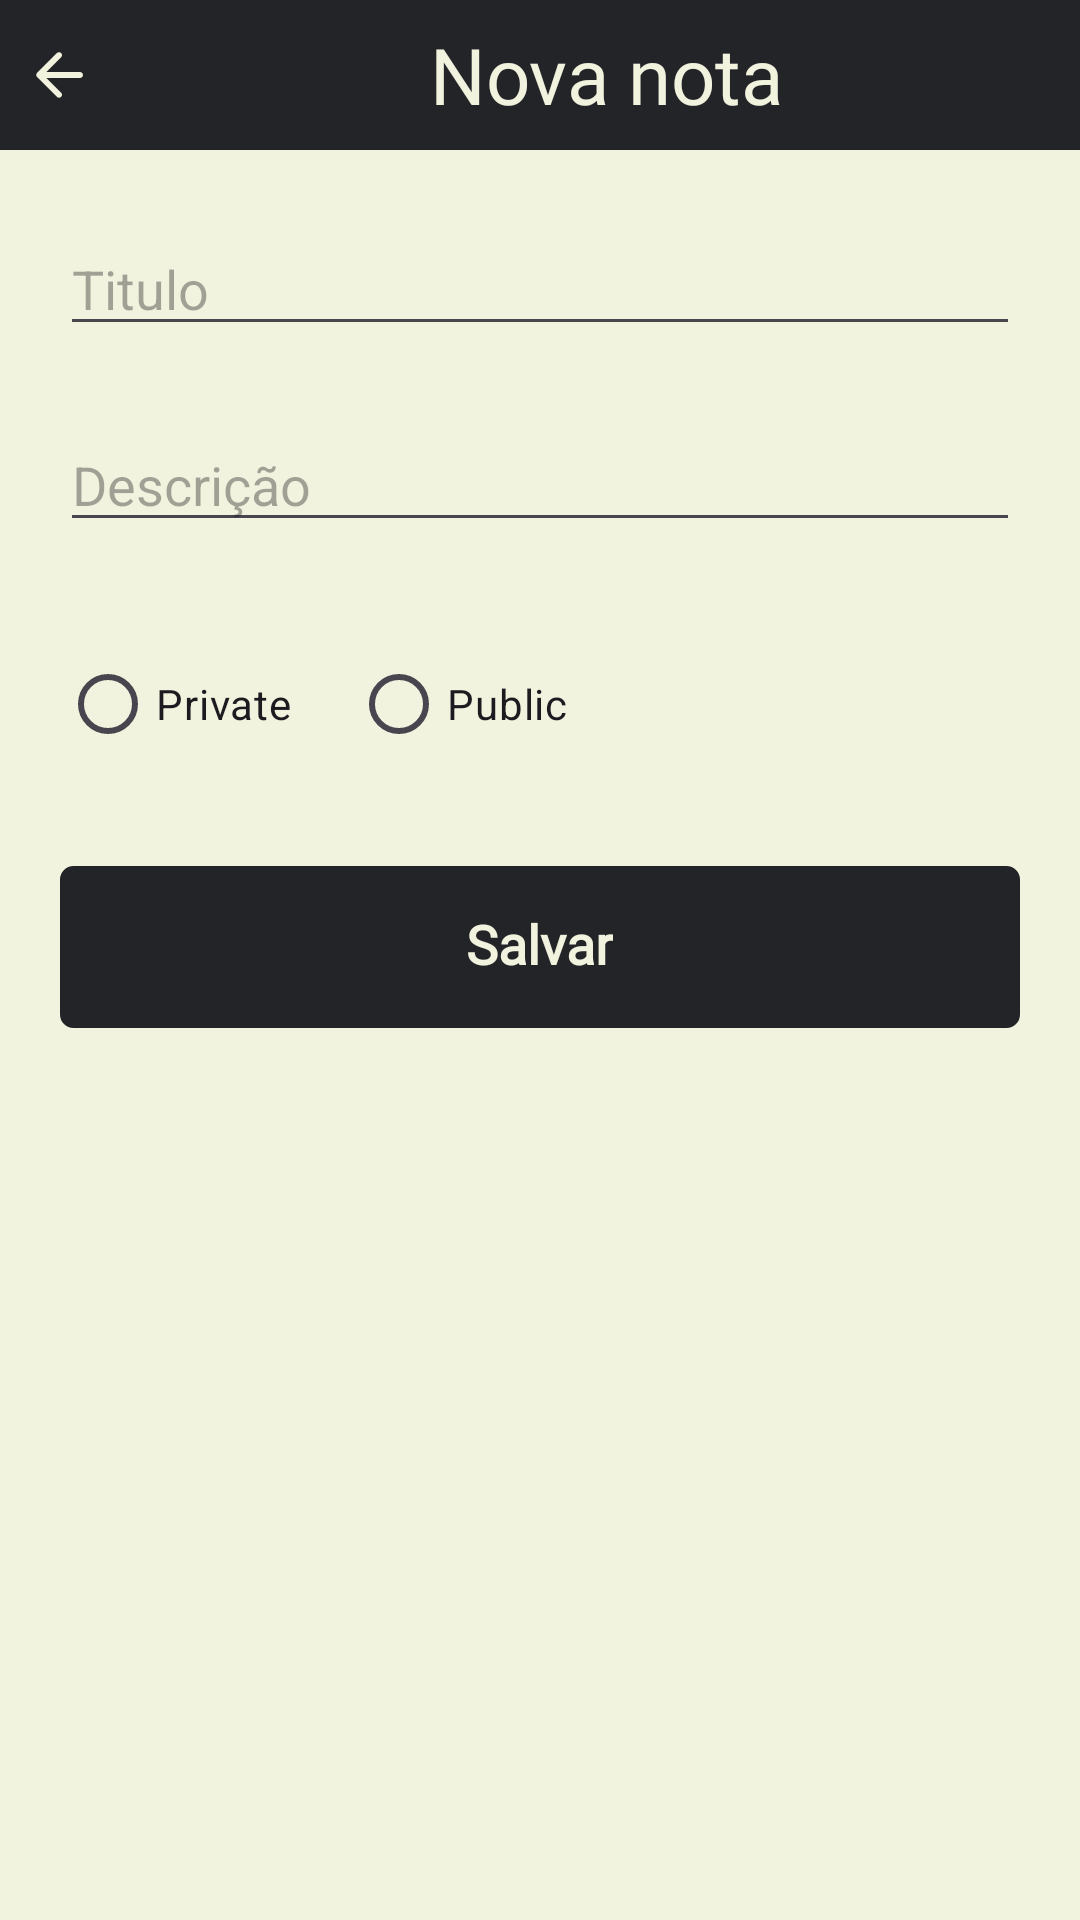

Point at icon controls on the screen. Image size 1080x1920, points as [x,y].
back: [59,75]
